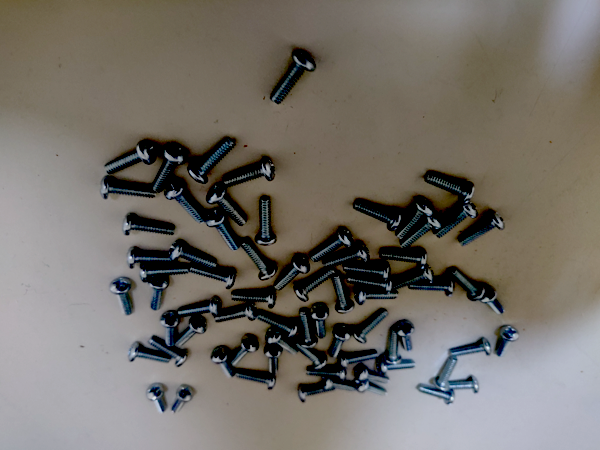shortscrew: (270, 51, 316, 106), (188, 137, 236, 184), (164, 181, 208, 224), (104, 140, 157, 175), (206, 184, 249, 227), (458, 211, 506, 248), (434, 200, 478, 239), (152, 144, 187, 193), (239, 239, 278, 281), (396, 198, 434, 241), (424, 172, 475, 204), (223, 157, 277, 187), (400, 212, 442, 249), (310, 228, 354, 263), (353, 200, 402, 231), (206, 209, 241, 252), (294, 267, 336, 302), (169, 240, 219, 269), (100, 175, 156, 200), (274, 254, 311, 291), (351, 308, 389, 344), (322, 241, 370, 268), (449, 267, 486, 302), (148, 336, 189, 367), (189, 263, 236, 290), (122, 213, 176, 236), (257, 310, 299, 339), (293, 340, 329, 371), (256, 196, 277, 248), (379, 248, 428, 270), (176, 315, 208, 348), (139, 262, 189, 283), (391, 267, 435, 290), (347, 273, 393, 295), (129, 341, 171, 365), (229, 334, 259, 367), (127, 247, 170, 270), (343, 261, 390, 282), (178, 297, 222, 319), (265, 327, 299, 355), (333, 271, 355, 314), (232, 289, 277, 309), (434, 356, 459, 392), (109, 277, 132, 316), (235, 370, 277, 391), (409, 279, 454, 298), (496, 324, 521, 358), (211, 346, 236, 380), (450, 338, 492, 358), (216, 303, 258, 323), (355, 287, 399, 306), (339, 349, 379, 369), (418, 384, 456, 405), (298, 310, 318, 349), (148, 275, 169, 311), (330, 325, 352, 359), (310, 303, 330, 339), (160, 312, 180, 347), (481, 287, 505, 316), (170, 386, 194, 414), (355, 365, 390, 384), (306, 367, 347, 383), (298, 386, 336, 403), (395, 320, 415, 352), (377, 359, 417, 375), (147, 383, 167, 414), (448, 376, 480, 395), (356, 379, 388, 397), (265, 344, 283, 374), (323, 377, 356, 393)
